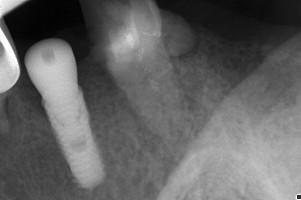Furcation Involvement: (177, 24, 200, 60)
